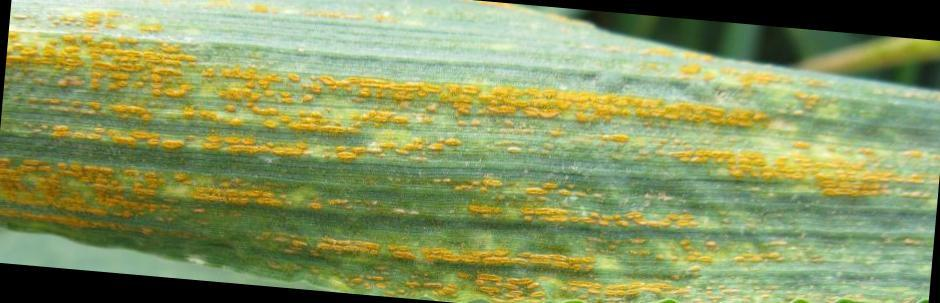Wheat: (13, 87, 678, 224), (247, 229, 757, 303), (9, 12, 338, 78), (687, 82, 811, 191), (820, 135, 924, 210)
